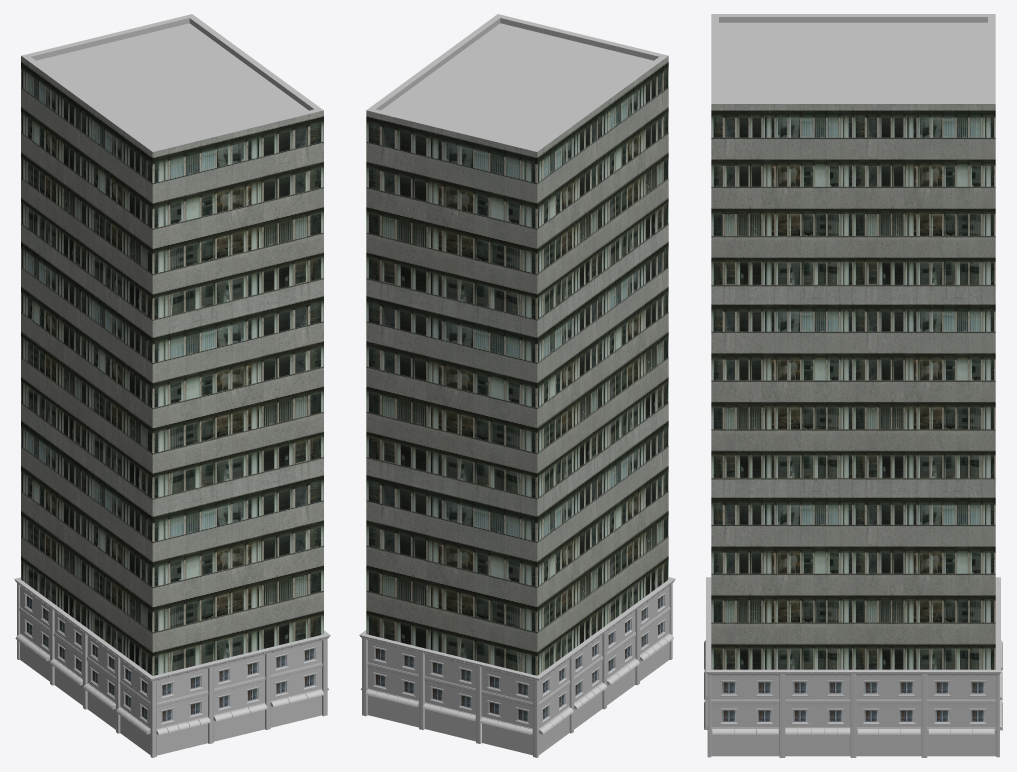
The model's file is High RIse Building 50.fbx.
3 views of the same model, side by side, from view 1: azimuth 30°, elevation 25°; view 2: azimuth 150°, elevation 25°; view 3: azimuth 270°, elevation 25° (orthographic). The views are drawn at different scales.
Visible parts, largest first — view 1: Top, Part_2, Part_1, Base; view 2: Top, Part_2, Part_1, Base; view 3: Top, Part_2, Part_1, Base.
Boxes of the visible parts, <box> form: Top: <box>21,14,323,319</box>; Part_2: <box>21,224,323,498</box>; Part_1: <box>21,403,323,675</box>; Base: <box>14,577,330,757</box>; Top: <box>366,14,668,319</box>; Part_2: <box>366,224,668,498</box>; Part_1: <box>366,403,668,675</box>; Base: <box>359,577,675,757</box>; Top: <box>711,14,995,285</box>; Part_2: <box>711,285,995,478</box>; Part_1: <box>711,478,995,669</box>; Base: <box>704,577,1002,757</box>.
Bounding box in the file's own units: 2563 × 8100 × 3365.
